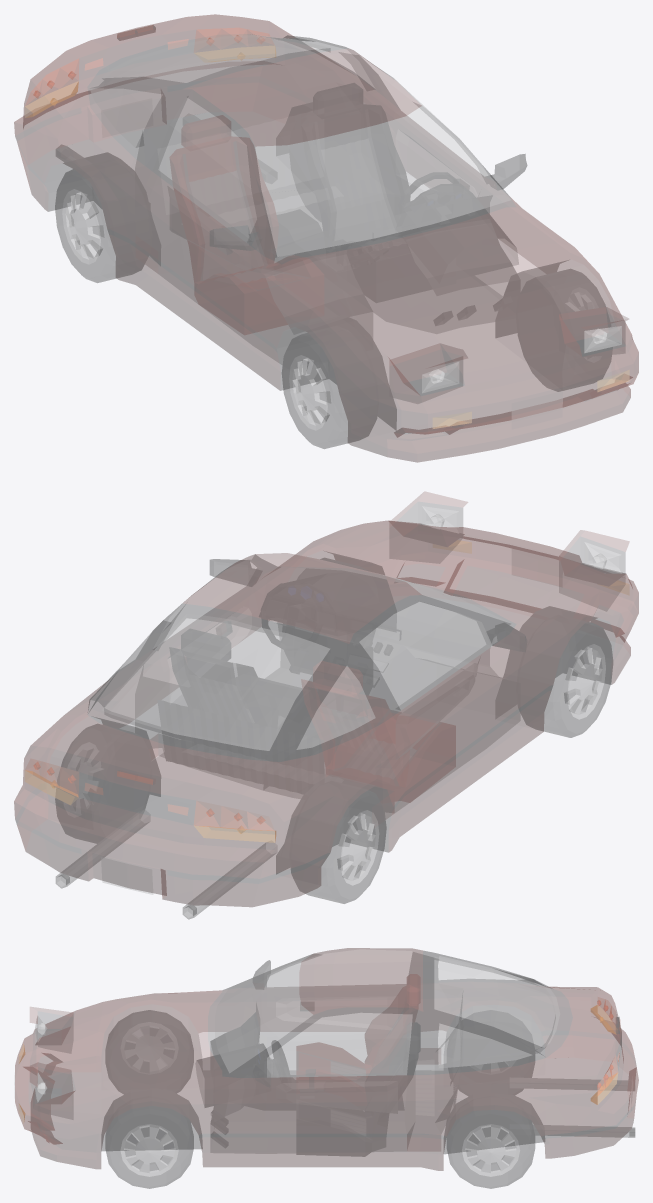
File: 1994-nissan-180mx_2.fbx
The picture shows the model from 3 angles, top to bottom: view 1: azimuth 30°, elevation 25°; view 2: azimuth 150°, elevation 25°; view 3: azimuth 270°, elevation 25°; orthographic projection. The views are drawn at different scales.
Visible parts, largest first — view 1: Plane.002, Cube.002, Cube, Cylinder.002, Cylinder.004, Cylinder.001, Cylinder, Plane.001; view 2: Plane.002, Cube.002, Cylinder.002, Cylinder.001, Cylinder.005, Cube, Plane.001, Cylinder.004; view 3: Plane.002, Cube, Cylinder, Cylinder.002, Cylinder.005, Cube.002, Cylinder.004, Plane.001, Cylinder.001.
Part boxes in pixels (x1=…): Plane.002: x1=14, y1=14, x2=638, y2=462; Cube.002: x1=169, y1=115, x2=323, y2=334; Cube: x1=301, y1=83, x2=432, y2=302; Cylinder.002: x1=282, y1=326, x2=378, y2=448; Cylinder.004: x1=397, y1=172, x2=518, y2=325; Cylinder.001: x1=55, y1=160, x2=144, y2=282; Cylinder: x1=516, y1=269, x2=611, y2=391; Plane.001: x1=390, y1=307, x2=628, y2=403; Plane.002: x1=14, y1=520, x2=638, y2=919; Cube.002: x1=301, y1=661, x2=455, y2=802; Cylinder.002: x1=517, y1=615, x2=612, y2=737; Cylinder.001: x1=289, y1=781, x2=386, y2=903; Cylinder.005: x1=55, y1=724, x2=152, y2=843; Cube: x1=169, y1=629, x2=318, y2=728; Plane.001: x1=390, y1=492, x2=628, y2=610; Cylinder.004: x1=259, y1=574, x2=378, y2=673; Plane.002: x1=14, y1=948, x2=638, y2=1170; Cube: x1=296, y1=1022, x2=420, y2=1156; Cylinder: x1=105, y1=1096, x2=193, y2=1188; Cylinder.002: x1=105, y1=1010, x2=193, y2=1093; Cylinder.005: x1=447, y1=1096, x2=534, y2=1188; Cube.002: x1=296, y1=974, x2=420, y2=1081; Cylinder.004: x1=196, y1=1040, x2=291, y2=1147; Plane.001: x1=30, y1=1007, x2=72, y2=1119; Cylinder.001: x1=458, y1=1054, x2=534, y2=1095.
Size of the model in its own units: 504 by 329 by 1146.
